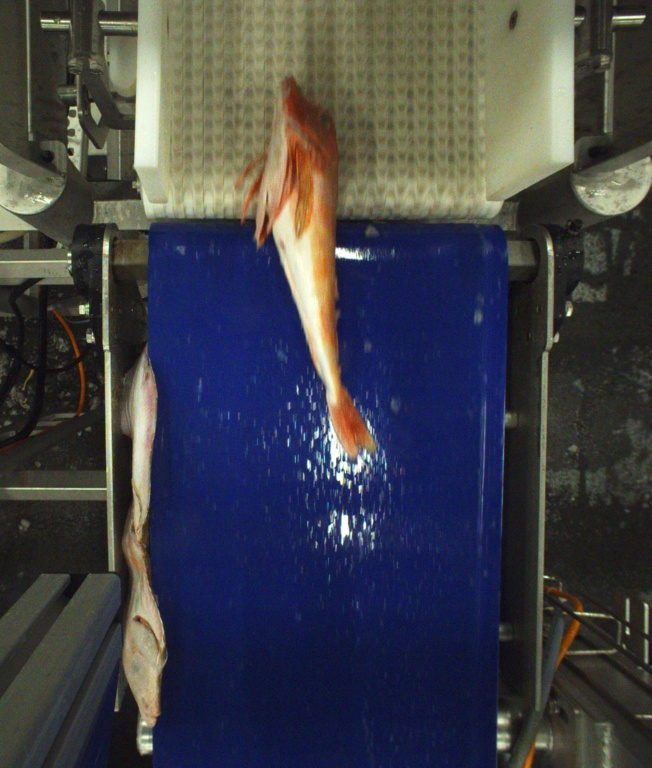GUU: (245, 73, 376, 453)
